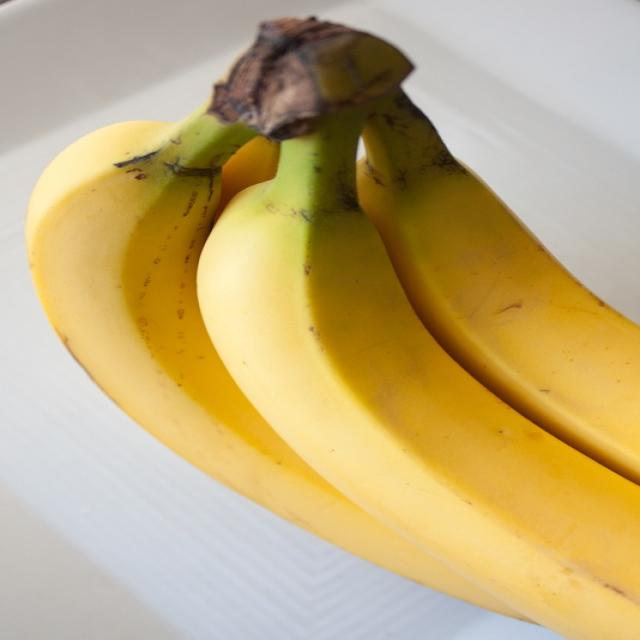unpeal banana: (27, 105, 522, 617), (198, 112, 639, 639), (359, 92, 639, 482)
